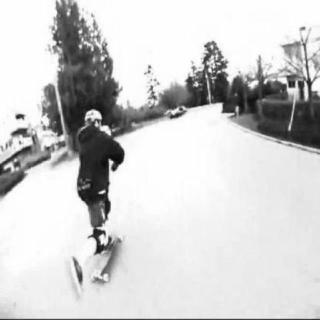other: (61, 228, 143, 282), (157, 103, 215, 153)
